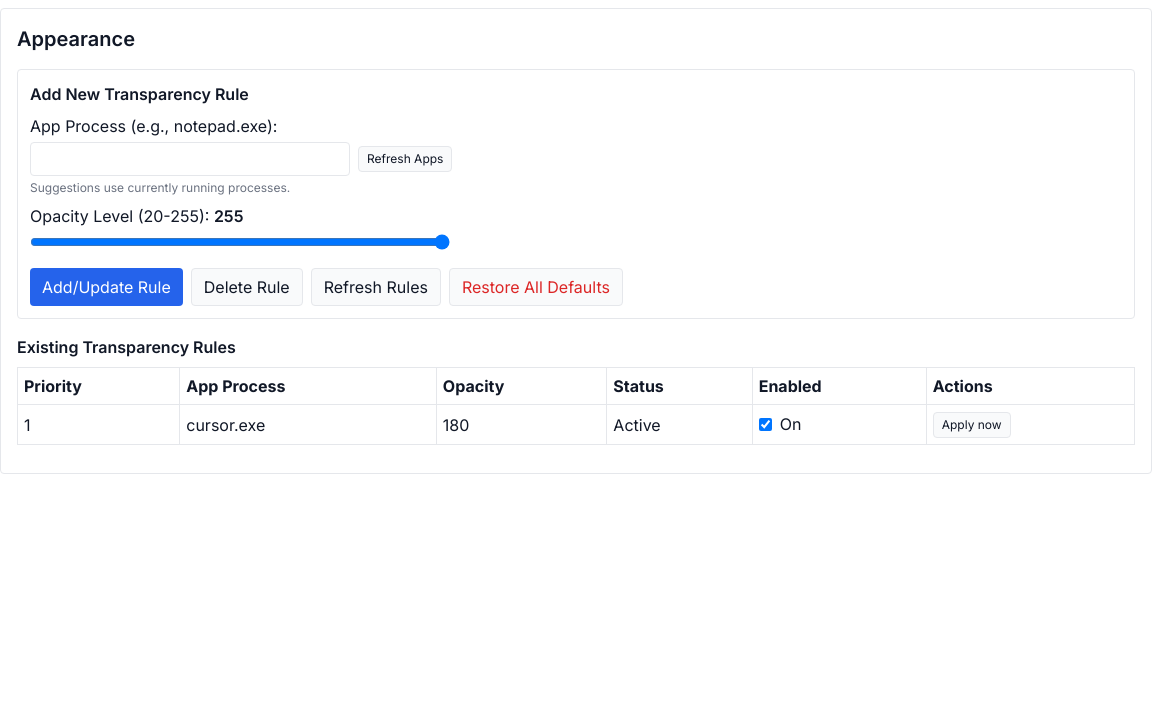
Scenario: AppearanceTab › applies selected rule now and shows affected window count
Click the button "Apply now" at (972, 425), box [933, 412, 1011, 438]
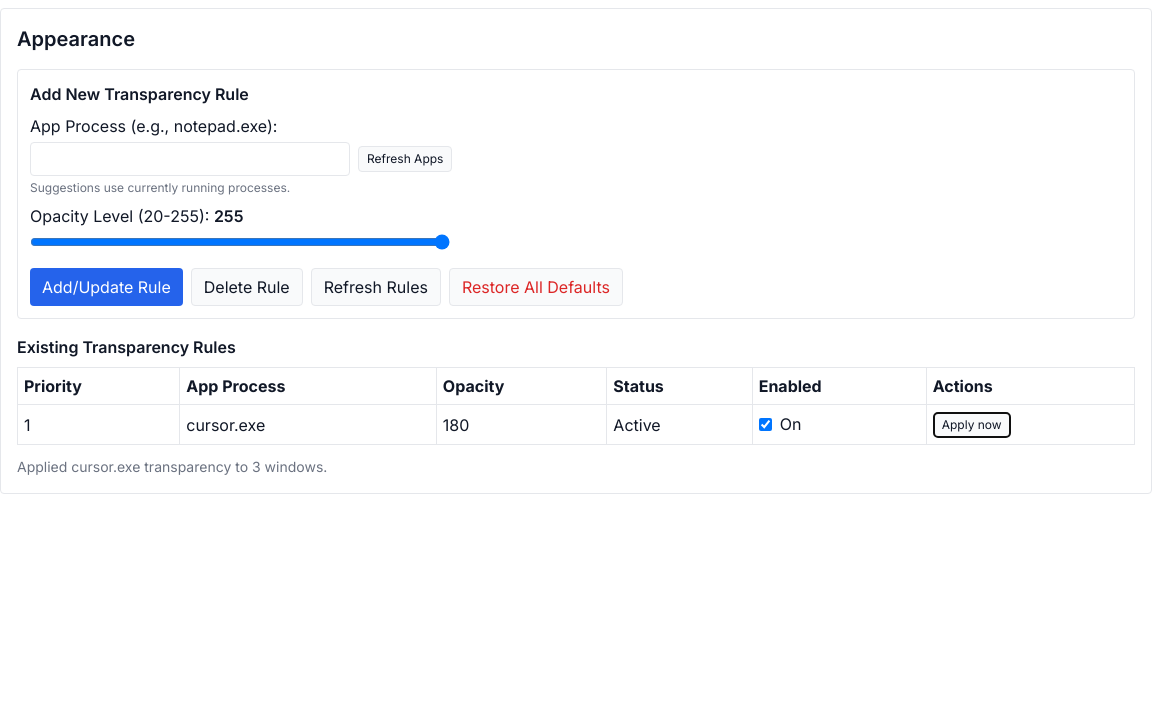
Check: the text "Applied cursor.exe transparency to 3 windows." is shown, box [17, 458, 327, 475]
